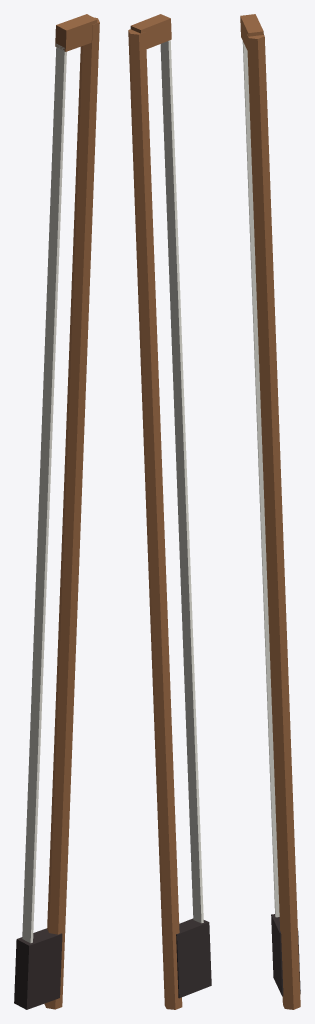
Rendered from Bow.glb.
3 renders of one model, left to right at view 1: azimuth 30°, elevation 25°; view 2: azimuth 210°, elevation 25°; view 3: azimuth 270°, elevation 25°, orthographic. The views are drawn at different scales.
Visible parts, largest first — view 1: Bow_Stick, Bow_Hair, Bow_Frog, Bow_Tip; view 2: Bow_Stick, Bow_Hair, Bow_Frog, Bow_Tip; view 3: Bow_Stick, Bow_Hair, Bow_Frog, Bow_Tip.
Part boxes in pixels (x1=…): Bow_Stick: x1=44, y1=17, x2=99, y2=1009; Bow_Hair: x1=22, y1=43, x2=66, y2=943; Bow_Frog: x1=14, y1=928, x2=62, y2=1009; Bow_Tip: x1=55, y1=14, x2=97, y2=51; Bow_Stick: x1=128, y1=29, x2=182, y2=1009; Bow_Hair: x1=160, y1=40, x2=203, y2=923; Bow_Frog: x1=176, y1=918, x2=211, y2=998; Bow_Tip: x1=130, y1=14, x2=171, y2=49; Bow_Stick: x1=247, y1=34, x2=300, y2=1009; Bow_Hair: x1=242, y1=41, x2=279, y2=917; Bow_Frog: x1=271, y1=914, x2=300, y2=996; Bow_Tip: x1=240, y1=14, x2=263, y2=50.
Bounding box in the file's own units: 0.0484 × 0.6927 × 0.0386.
